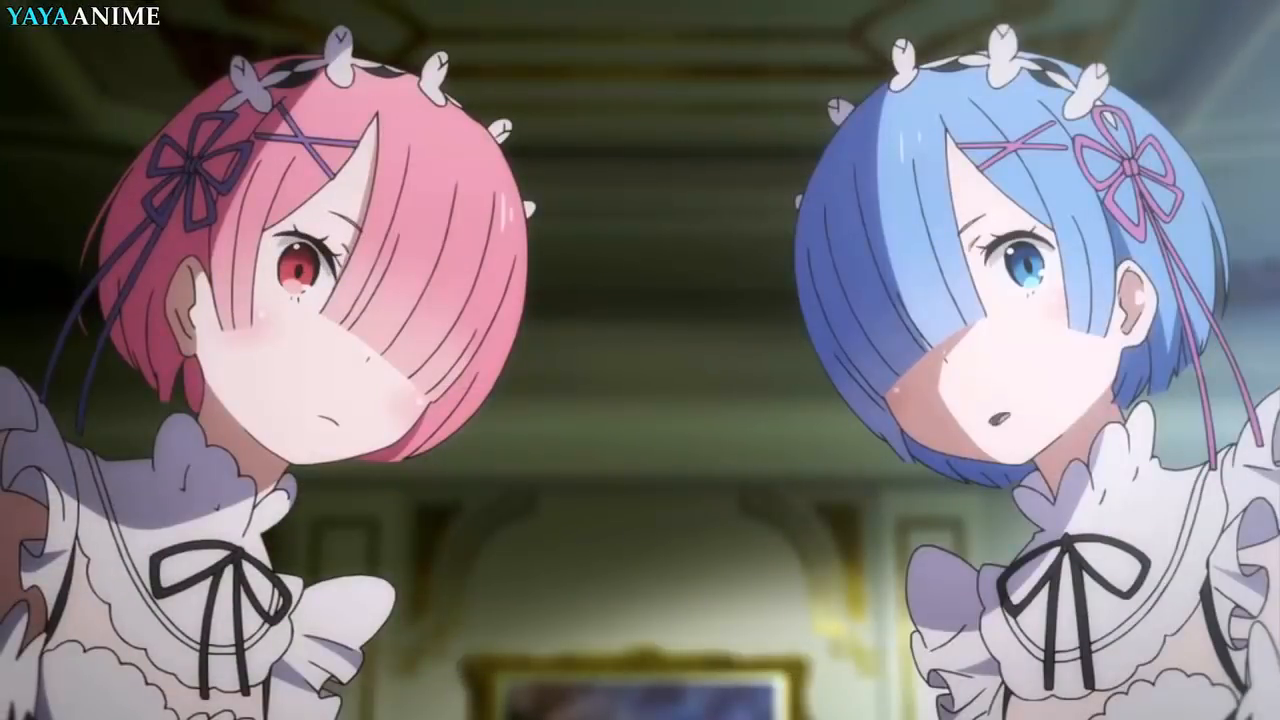REM: (790, 40, 1238, 497)
